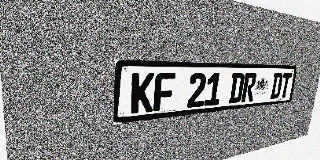1: (204, 73, 222, 106)
2: (187, 73, 207, 108)
D: (228, 73, 245, 104), (270, 73, 283, 99)
F: (153, 73, 176, 111)
K: (131, 73, 155, 114)
R: (241, 73, 257, 102)
T: (279, 73, 292, 98)
